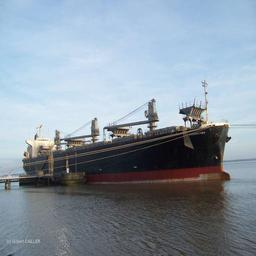Ship: (22, 92, 235, 188)
